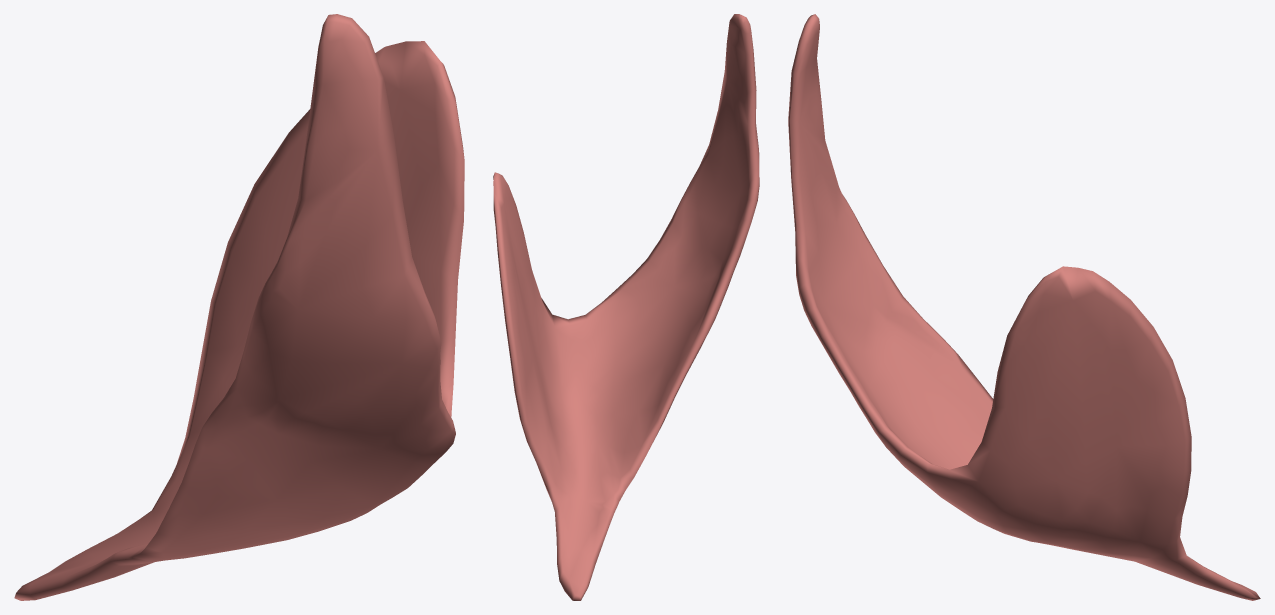
3 views of the same model, side by side, from view 1: azimuth 30°, elevation 25°; view 2: azimuth 150°, elevation 25°; view 3: azimuth 270°, elevation 25° (orthographic). The views are drawn at different scales.
Parts seen in each view (by area): view 1: ZA_e1be0a3b91a5d22d; view 2: ZA_e1be0a3b91a5d22d; view 3: ZA_e1be0a3b91a5d22d.
Part boxes in pixels (x1=…): ZA_e1be0a3b91a5d22d: x1=14, y1=14, x2=464, y2=600; ZA_e1be0a3b91a5d22d: x1=493, y1=14, x2=759, y2=600; ZA_e1be0a3b91a5d22d: x1=788, y1=14, x2=1260, y2=600.
Bounding box in the file's own units: 0.00929 × 0.0221 × 0.0161.
